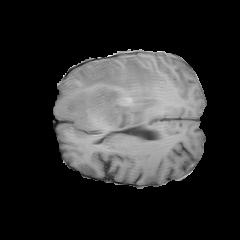glioma: (66, 56, 165, 130)
